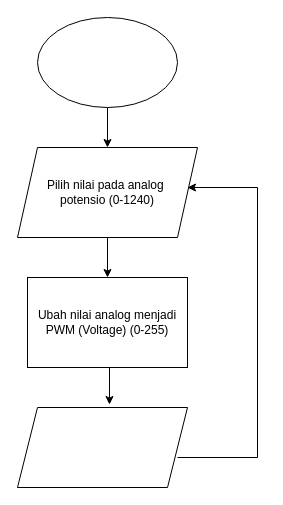
This 283x505 diagram has some shape labels left out. Each missing label, with the centre of its shape:
"Start" goes at (x=107, y=62).
"Tampilkan nilai voltage potensio" goes at (x=102, y=447).
